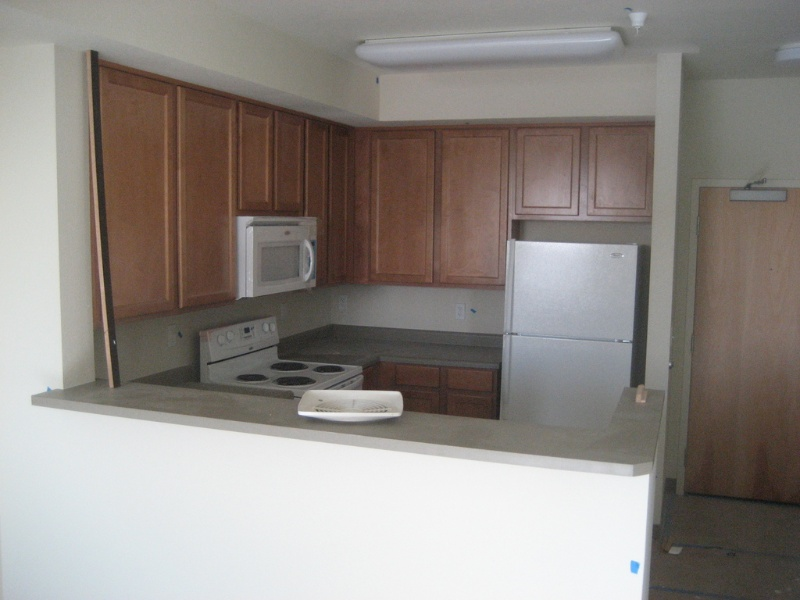refrigerator: (504, 235, 643, 424)
